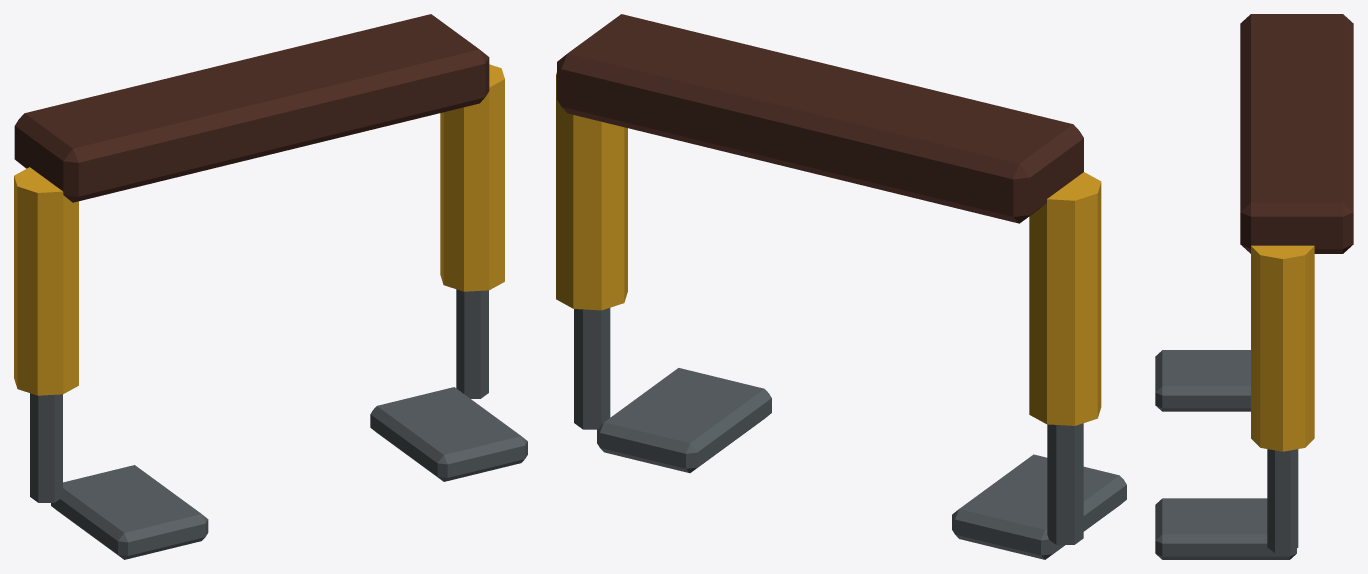
The model's file is upg_hydraulic_legs.glb.
3 renders of one model, left to right at view 1: azimuth 30°, elevation 25°; view 2: azimuth 150°, elevation 25°; view 3: azimuth 270°, elevation 25°, orthographic. The views are drawn at different scales.
Parts seen in each view (by area): view 1: hip_bracket, cyl_R, cyl_L, foot_plate_L, foot_plate_R, rod_R, rod_L; view 2: hip_bracket, cyl_R, cyl_L, foot_plate_L, foot_plate_R, rod_R, rod_L; view 3: hip_bracket, cyl_L, foot_plate_L, foot_plate_R, rod_L.
Part boxes in pixels (x1,y1,x2,y2): hip_bracket: (14, 14, 489, 202); cyl_R: (14, 167, 78, 395); cyl_L: (440, 64, 504, 291); foot_plate_L: (370, 387, 527, 481); foot_plate_R: (51, 465, 208, 559); rod_R: (30, 393, 62, 502); rod_L: (456, 289, 488, 398); hip_bracket: (557, 14, 1083, 223); cyl_R: (1029, 172, 1101, 425); cyl_L: (556, 72, 627, 310); foot_plate_L: (597, 368, 771, 473); foot_plate_R: (952, 454, 1126, 559); rod_R: (1047, 423, 1083, 544); rod_L: (574, 308, 610, 429); hip_bracket: (1240, 14, 1353, 253); cyl_L: (1251, 245, 1314, 451); foot_plate_L: (1155, 498, 1296, 559); foot_plate_R: (1155, 350, 1250, 411); rod_L: (1267, 449, 1298, 553).
Size of the model in its own units: 0.75 by 0.56 by 0.28.
